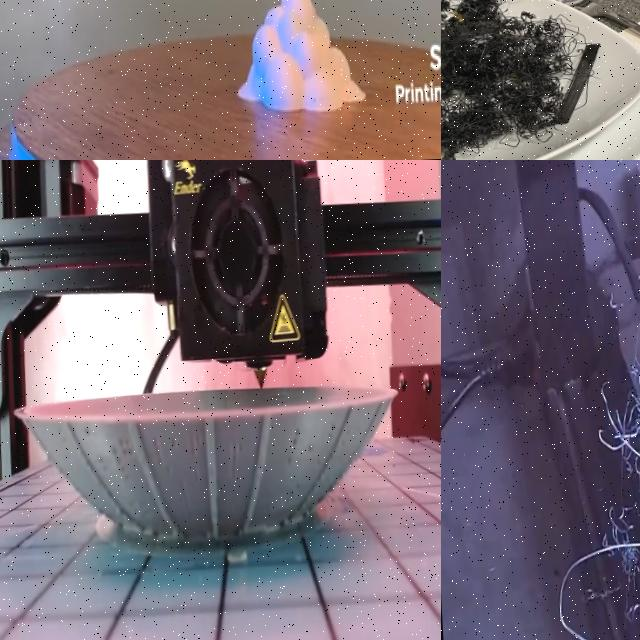spaghetti: (441, 0, 640, 160)
